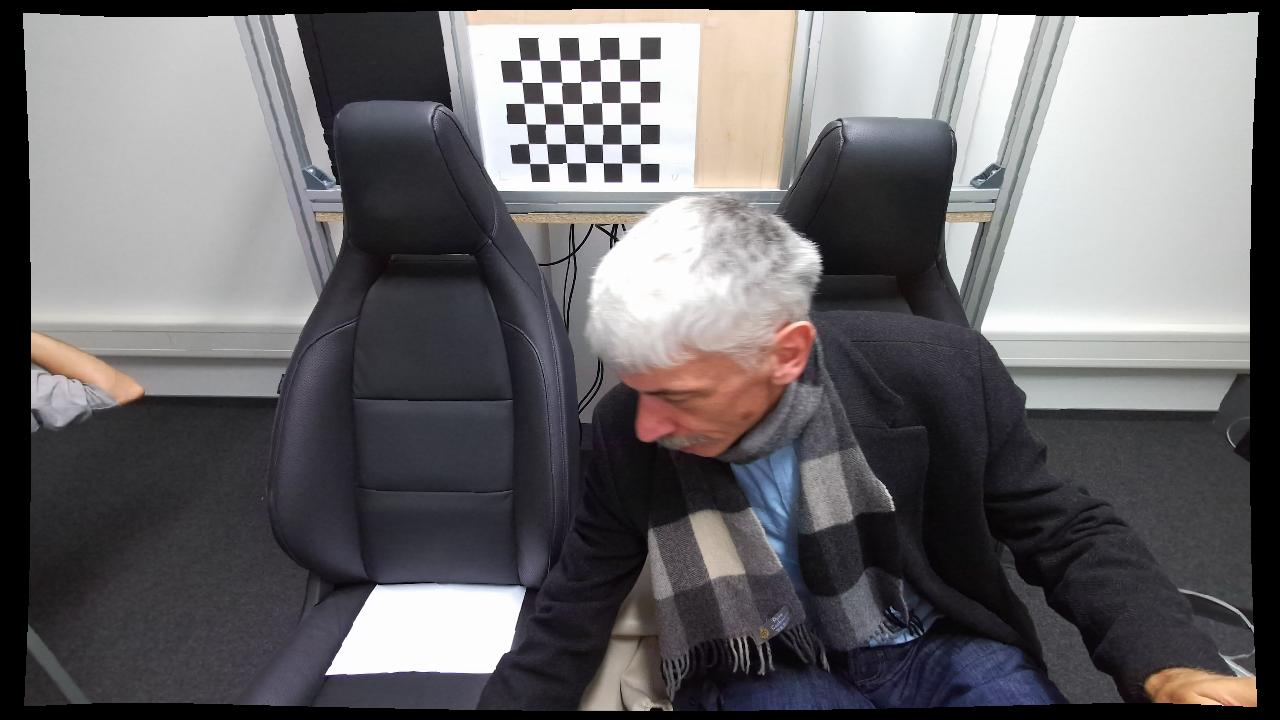Distracted: (470, 197, 1151, 714)
